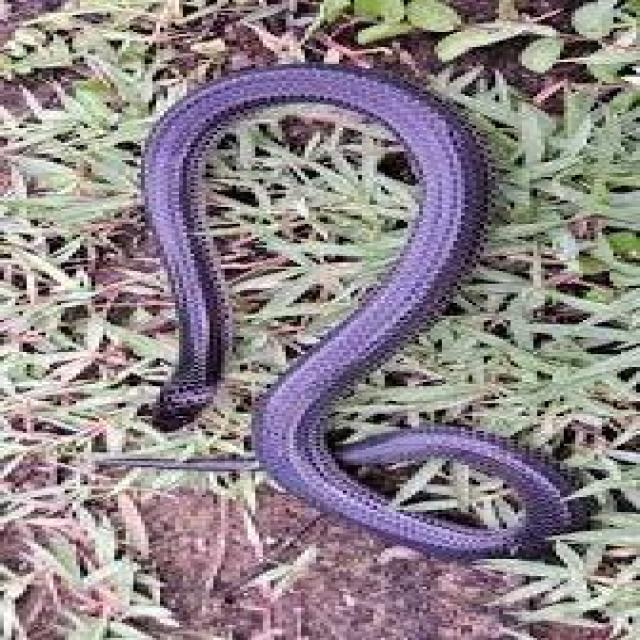Non-Venomous: (114, 209, 250, 428)
